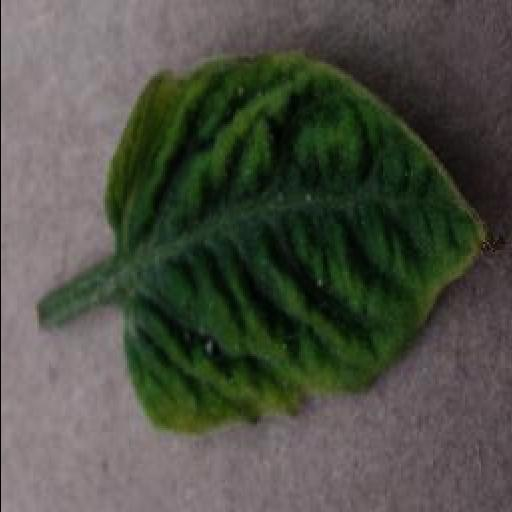disease_tomato: (103, 48, 489, 434)
